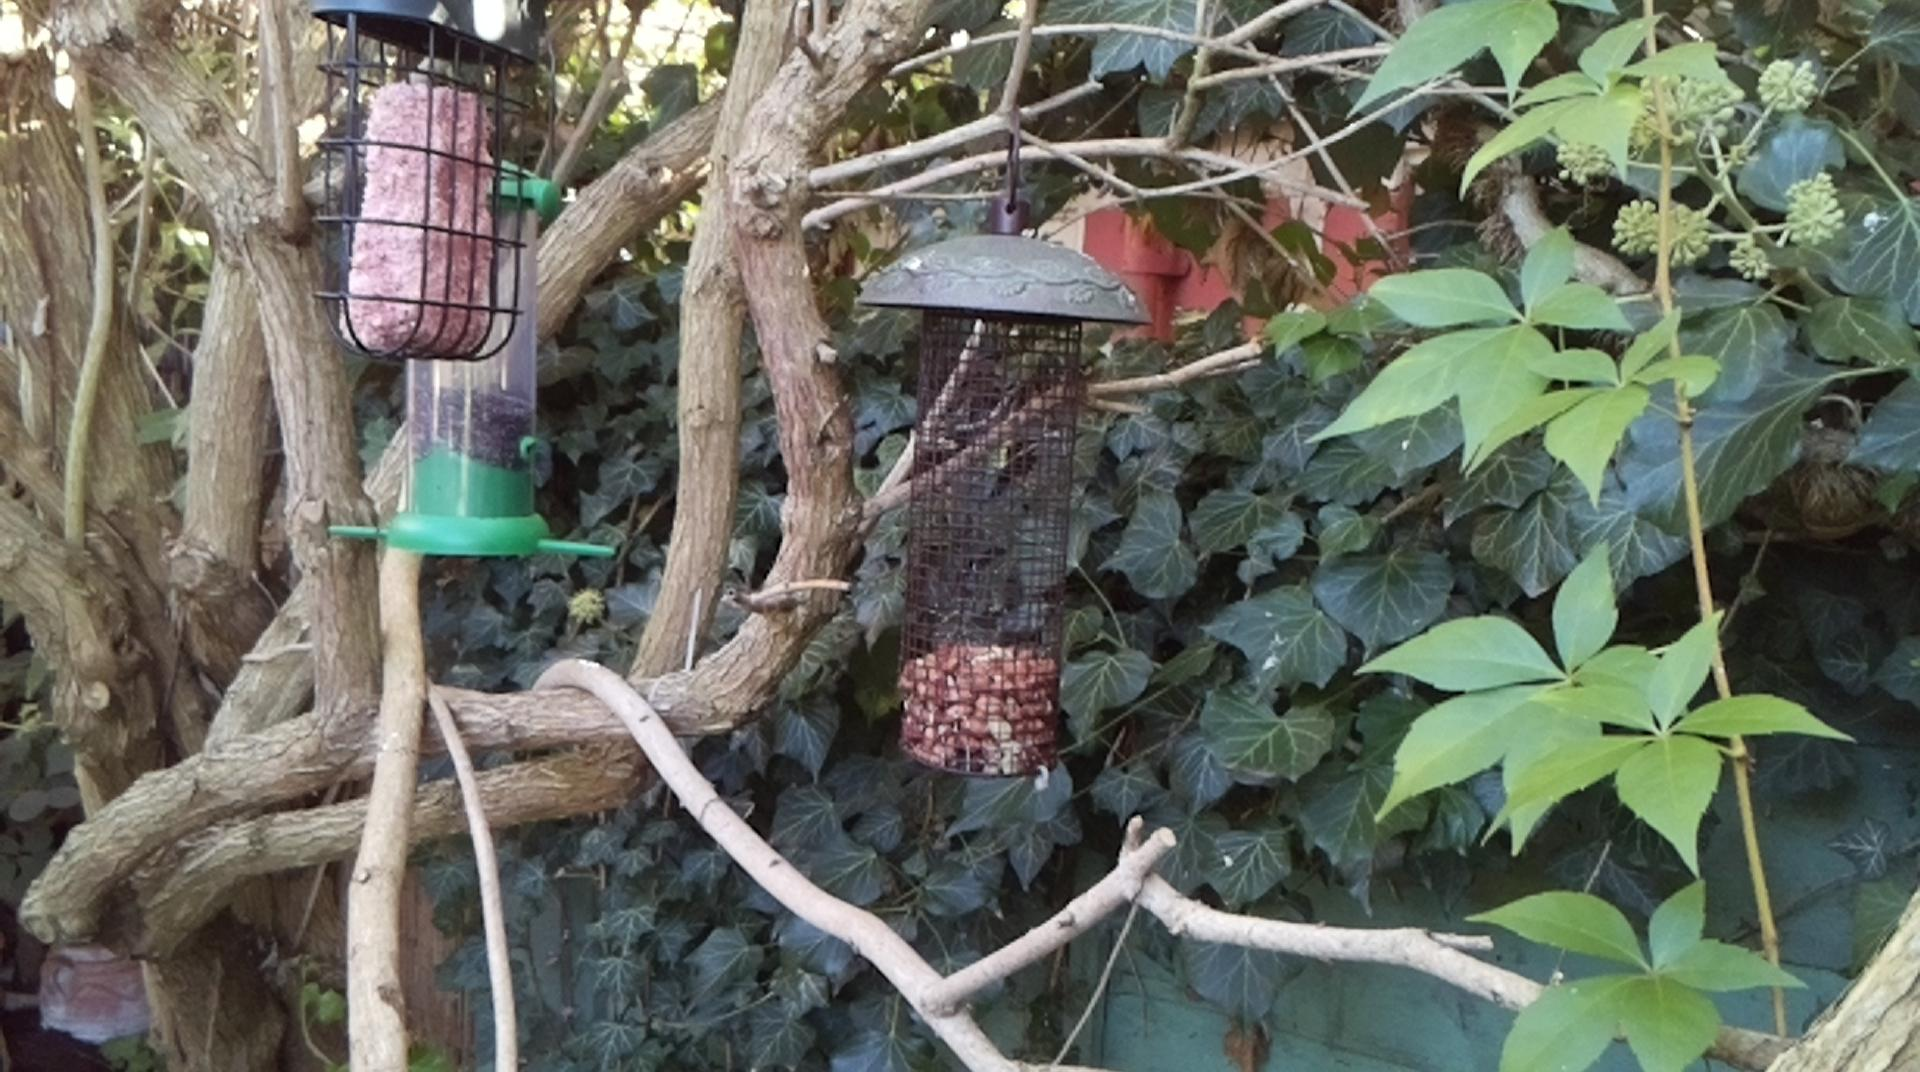unclassified: (1714, 425, 1920, 746)
